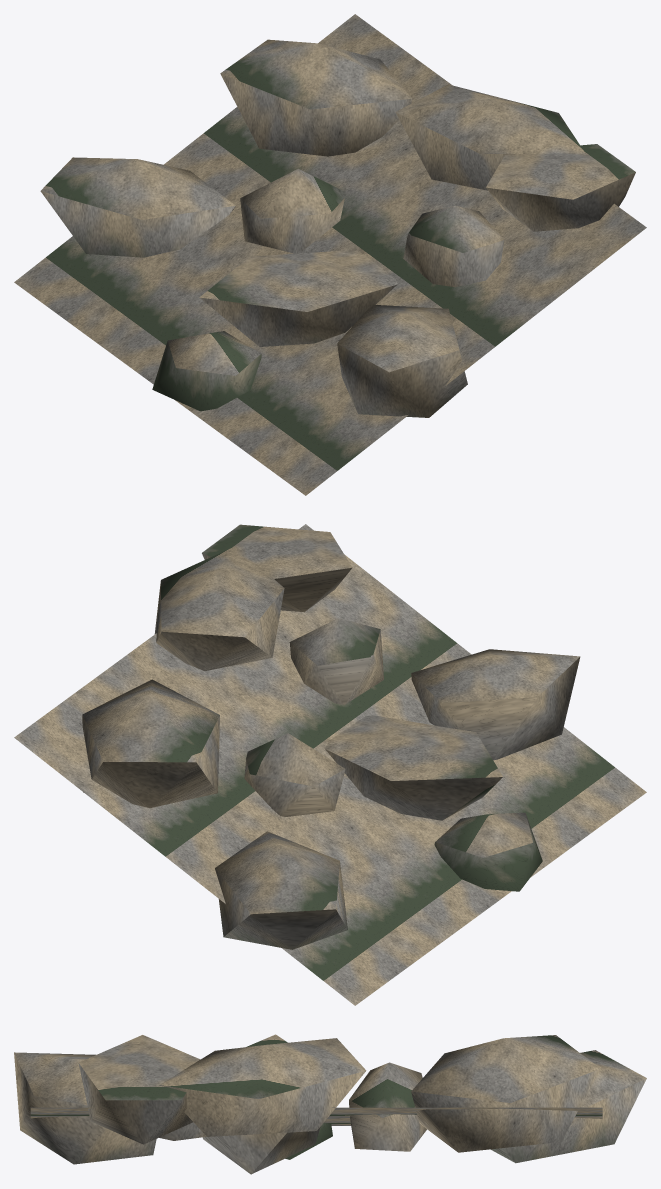
File: SM_Molo_Scogliera_A_LOD2.fbx
3 views of the same model, one above another, from view 1: azimuth 30°, elevation 25°; view 2: azimuth 150°, elevation 25°; view 3: azimuth 270°, elevation 25° (orthographic). The views are drawn at different scales.
Visible parts, largest first — view 1: SM_Molo_Scogliera_A_LOD2; view 2: SM_Molo_Scogliera_A_LOD2; view 3: SM_Molo_Scogliera_A_LOD2.
Boxes of the visible parts, x1,y1,x2,y2 form: SM_Molo_Scogliera_A_LOD2: (14,14,646,495); SM_Molo_Scogliera_A_LOD2: (14,524,646,1005); SM_Molo_Scogliera_A_LOD2: (14,1034,646,1174).
Bounding box in the file's own units: 618 × 885 × 353.
Materials: 1 (1 with a texture image).
